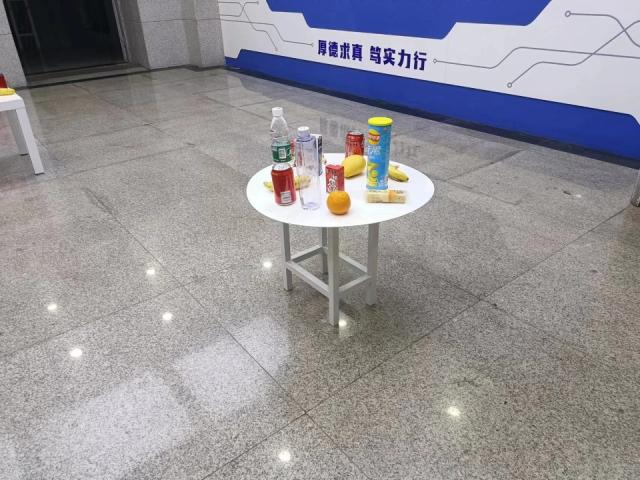Canned_drinks: (270, 161, 298, 206), (345, 129, 365, 160)
bottle: (292, 126, 323, 211), (269, 106, 291, 174)
cylinder: (368, 117, 392, 190)
drink_box: (324, 162, 346, 194), (311, 133, 323, 176)
